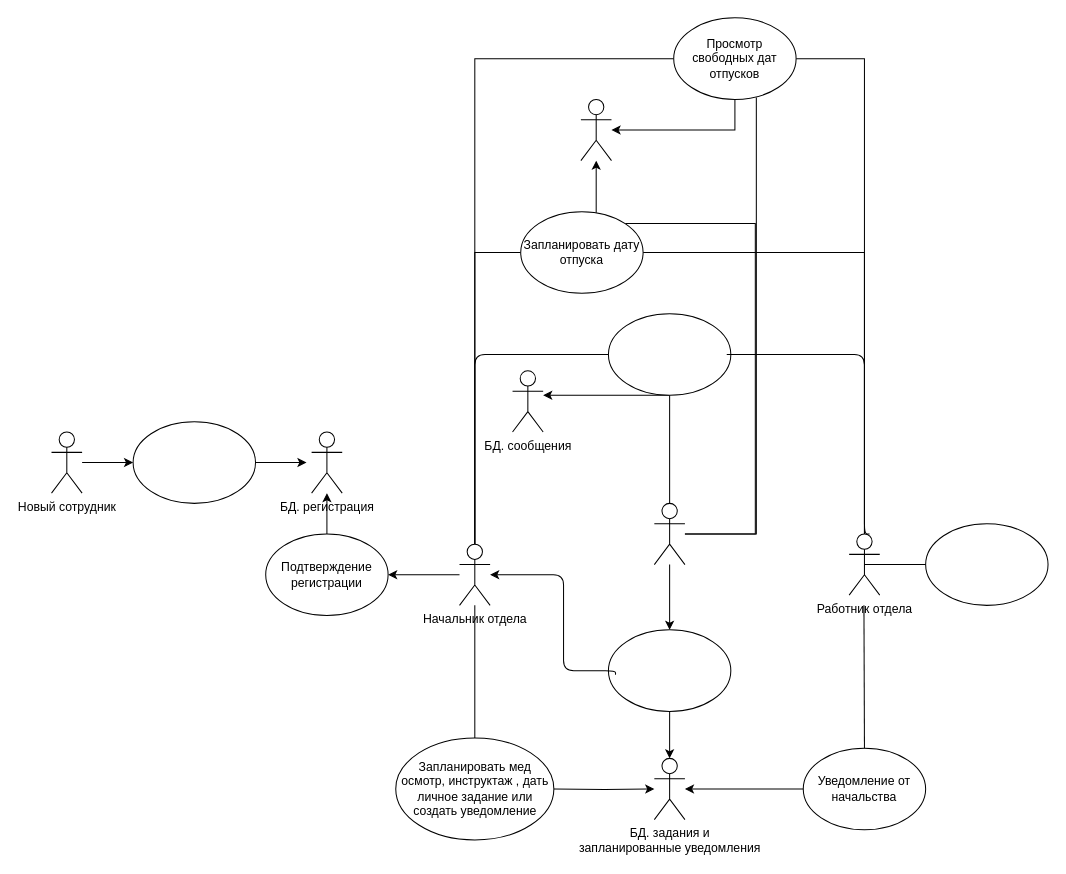
This 1066x874 diagram has some shape labels left out. The centre of each missing label's shape, as x and y in pixels:
"БД. Отпуск" goes at (595,129).
"Выдать задание" goes at (669,670).
"Директор" goes at (669,533).
"Написать\получить письмо сотруднику" goes at (669,354).
"Памятка" goes at (986,564).
"Регистрация" goes at (194,462).
